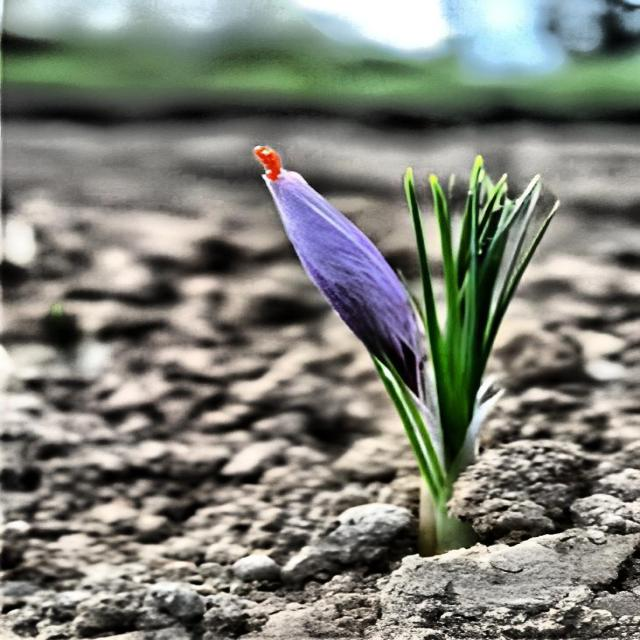Flower: (243, 138, 442, 407)
stigma: (247, 139, 302, 184)
